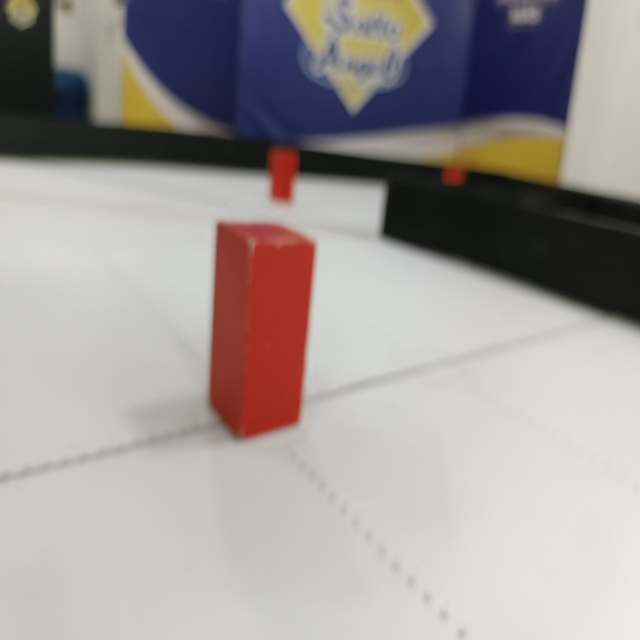red rectangular prism: (198, 215, 323, 444), (265, 147, 297, 202)
